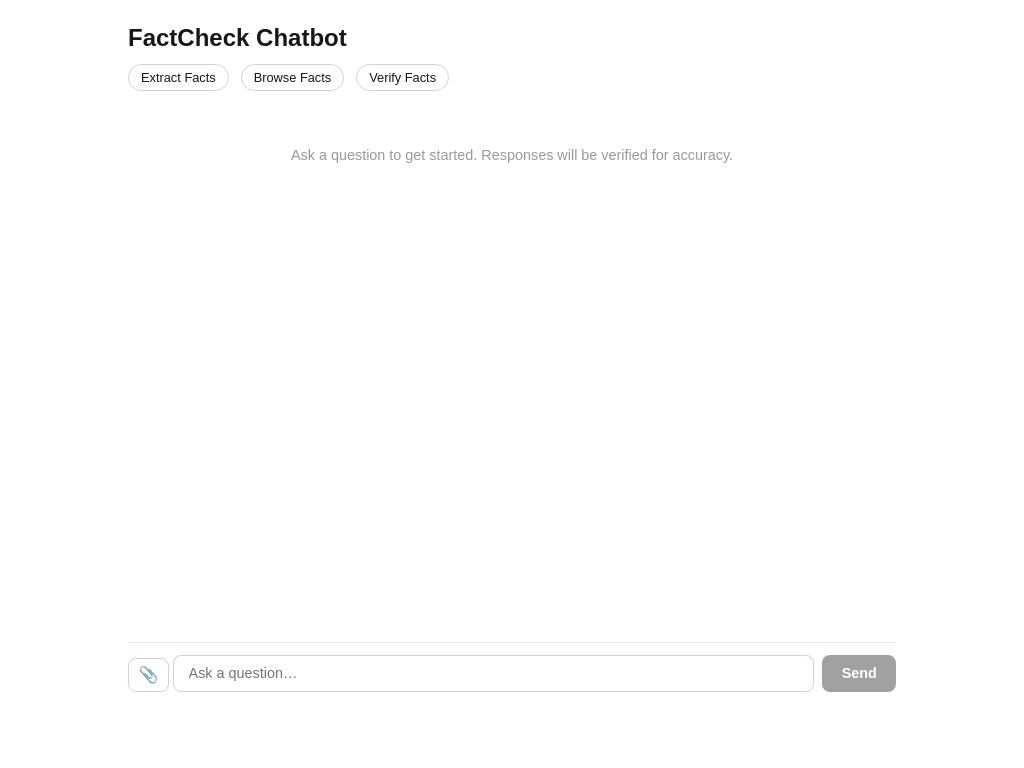
Test: ChatbotHomePage › sending messages › displays the user message immediately after sending
The width and height of the screenshot is (1024, 768).
In the field named "chat input": (494, 673) [173,655,814,692], type "What is photosynthesis?"
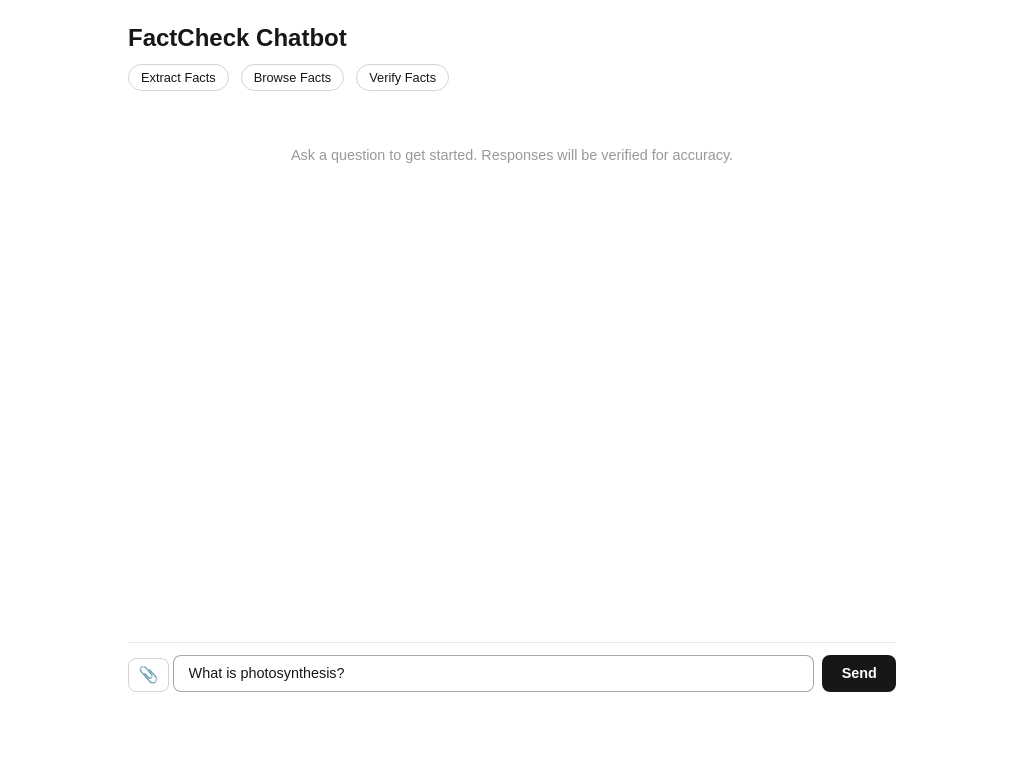
Click the button with aria-label "send message": (859, 673) [822,655,896,692]
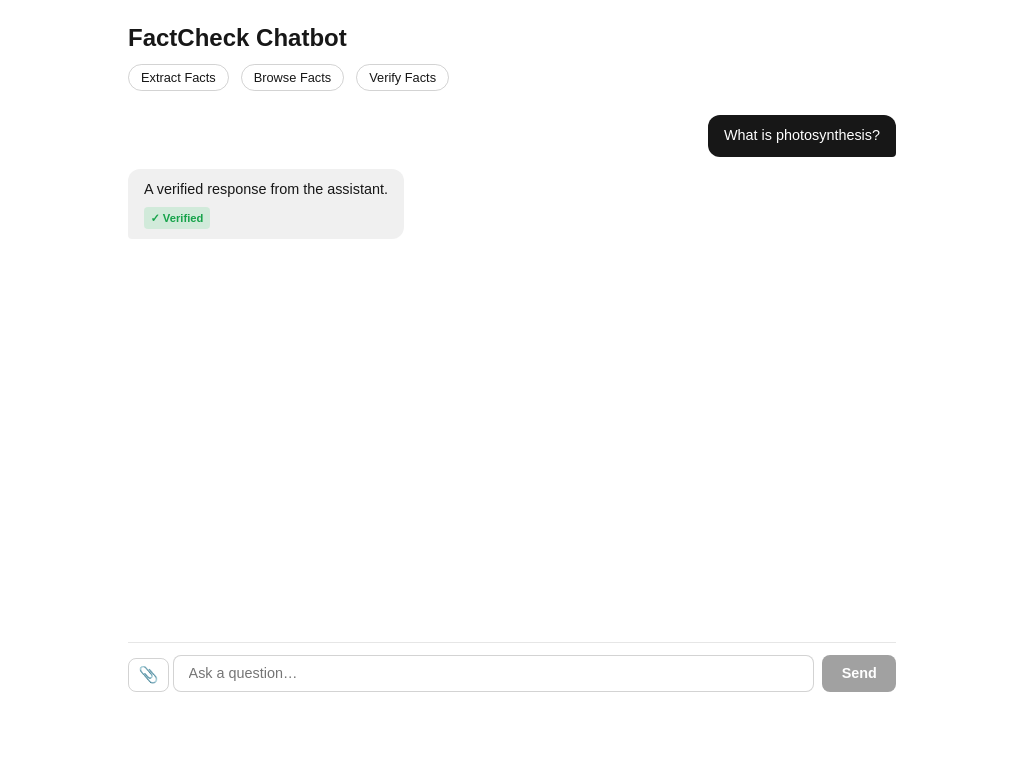
expect the text "What is photosynthesis?" is shown: met, box [724,125,880,147]
